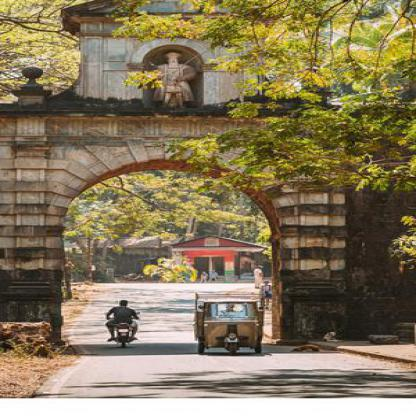motorcycle: (108, 300, 144, 350)
